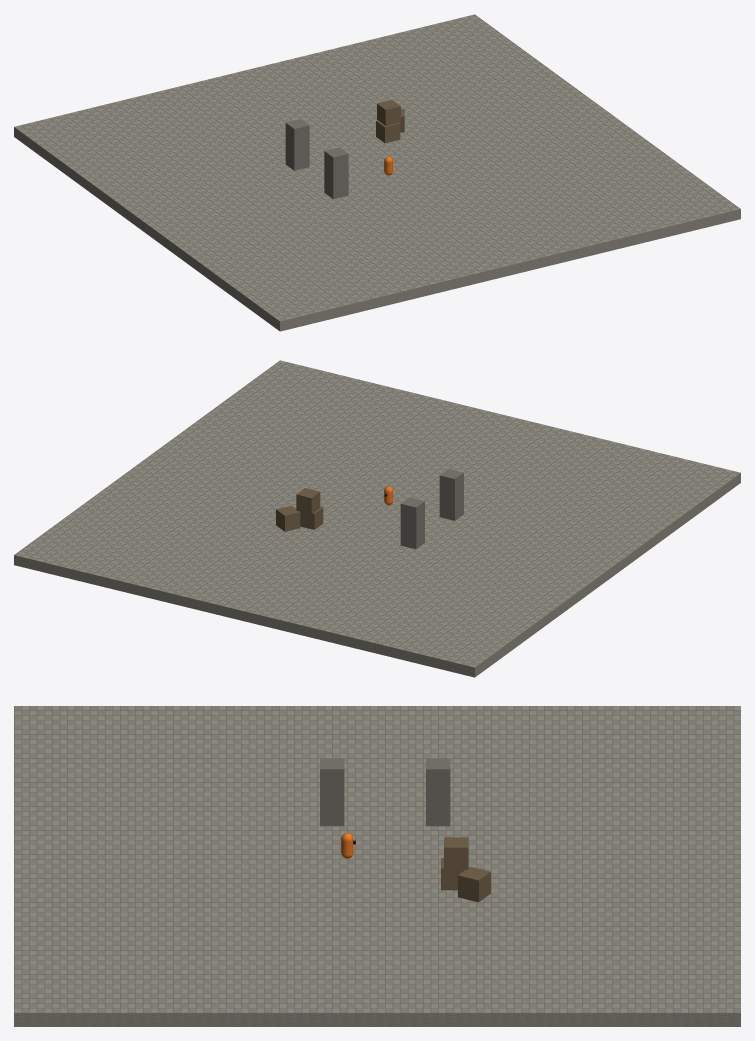
File: world.glb
The picture shows the model from 3 angles, top to bottom: view 1: azimuth 30°, elevation 25°; view 2: azimuth 150°, elevation 25°; view 3: azimuth 270°, elevation 25°; orthographic projection. The views are drawn at different scales.
Parts seen in each view (by area): view 1: Floor, PillarA, PillarB, CrateC; view 2: Floor, PillarA, PillarB, CrateC, CrateB; view 3: Floor, PillarA, PillarB, CrateB, CrateC.
Boxes of the visible parts, left/top/right/bottom form: Floor: left=14, top=14, right=740, bottom=331; PillarA: left=285, top=119, right=309, bottom=170; PillarB: left=324, top=147, right=348, bottom=199; CrateC: left=377, top=100, right=400, bottom=125; Floor: left=14, top=360, right=740, bottom=677; PillarA: left=400, top=497, right=424, bottom=549; PillarB: left=439, top=469, right=463, bottom=520; CrateC: left=296, top=488, right=320, bottom=514; CrateB: left=276, top=505, right=300, bottom=531; Floor: left=14, top=706, right=740, bottom=1026; PillarA: left=426, top=759, right=450, bottom=826; PillarB: left=320, top=759, right=344, bottom=826; CrateB: left=458, top=866, right=490, bottom=902; CrateC: left=444, top=837, right=468, bottom=869.
Size of the model in its own units: 48 by 5.16 by 48.
Materials: 5 (1 with a texture image).
